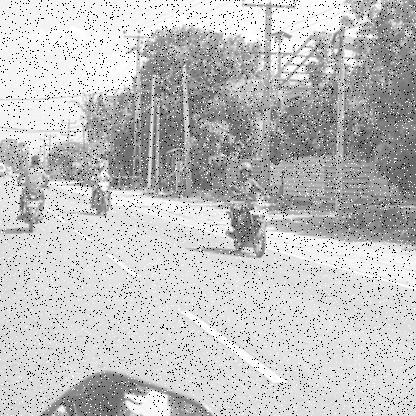motorcycle: (224, 191, 274, 259), (13, 188, 48, 236), (88, 180, 116, 218)
